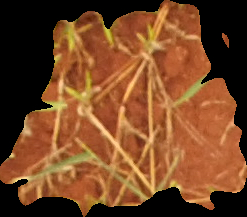soil: (2, 1, 246, 217)
